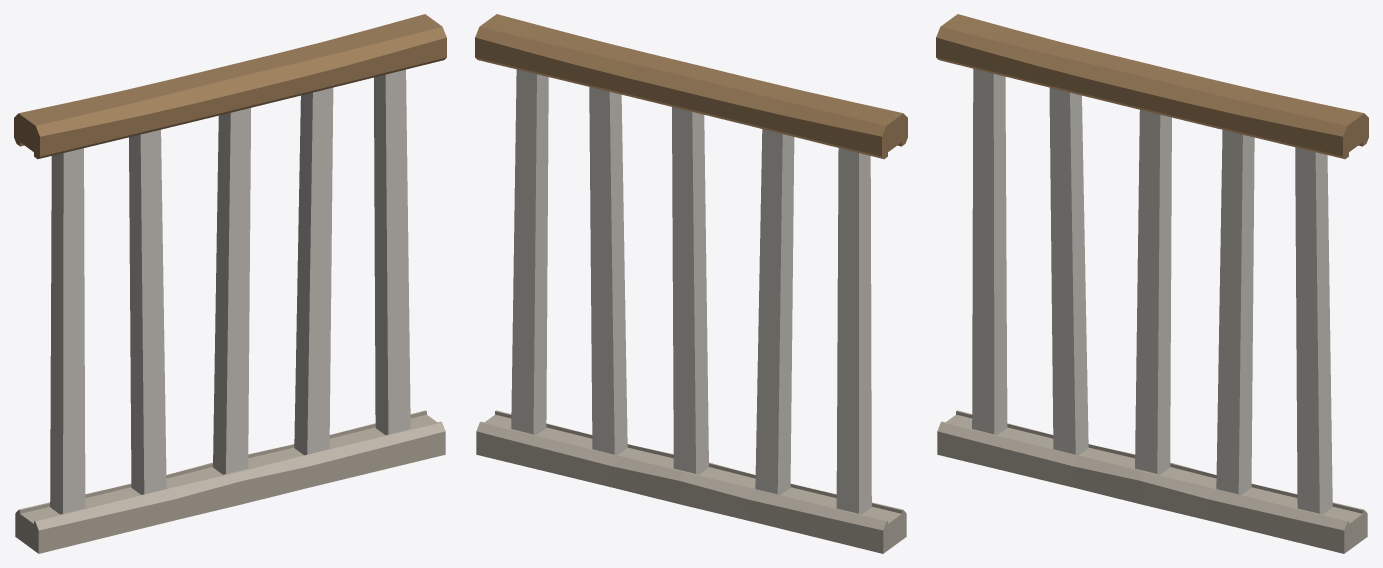
Rendered from landing-balustrade-run-d4c498.glb.
3 views of the same model, side by side, from view 1: azimuth 30°, elevation 25°; view 2: azimuth 150°, elevation 25°; view 3: azimuth 330°, elevation 25° (orthographic).
Parts seen in each view (by area): view 1: landing-balustrade-run; view 2: landing-balustrade-run; view 3: landing-balustrade-run.
Boxes of the visible parts, <box> form: landing-balustrade-run: <box>14,14,446,553</box>; landing-balustrade-run: <box>475,14,907,553</box>; landing-balustrade-run: <box>936,14,1368,553</box>.
Size of the model in its own units: 1 by 1 by 0.1126.
